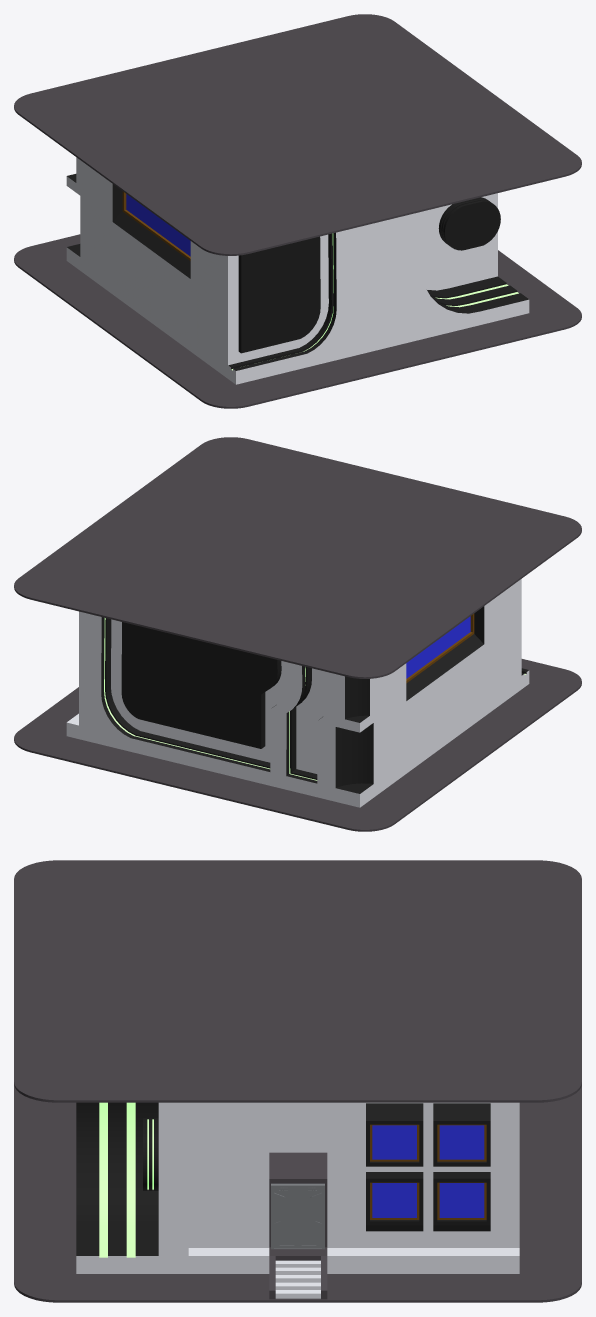
3 views of the same model, one above another, from view 1: azimuth 30°, elevation 25°; view 2: azimuth 150°, elevation 25°; view 3: azimuth 270°, elevation 25° (orthographic). The views are drawn at different scales.
Parts seen in each view (by area): view 1: SM_B_i9_Base; view 2: SM_B_i9_Base; view 3: SM_B_i9_Base.
Boxes of the visible parts, bbox=[...] form: SM_B_i9_Base: bbox=[14, 14, 581, 408]; SM_B_i9_Base: bbox=[14, 437, 581, 831]; SM_B_i9_Base: bbox=[14, 860, 581, 1302].
Bounding box in the file's own units: 2100 × 825 × 2100.
